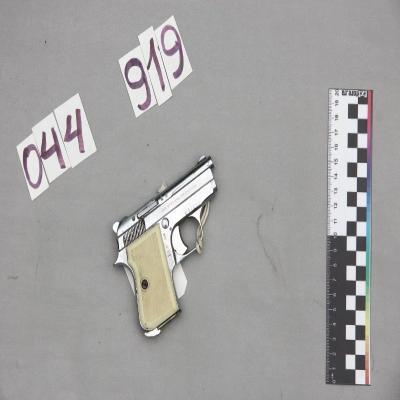weapon: (114, 158, 216, 339)
